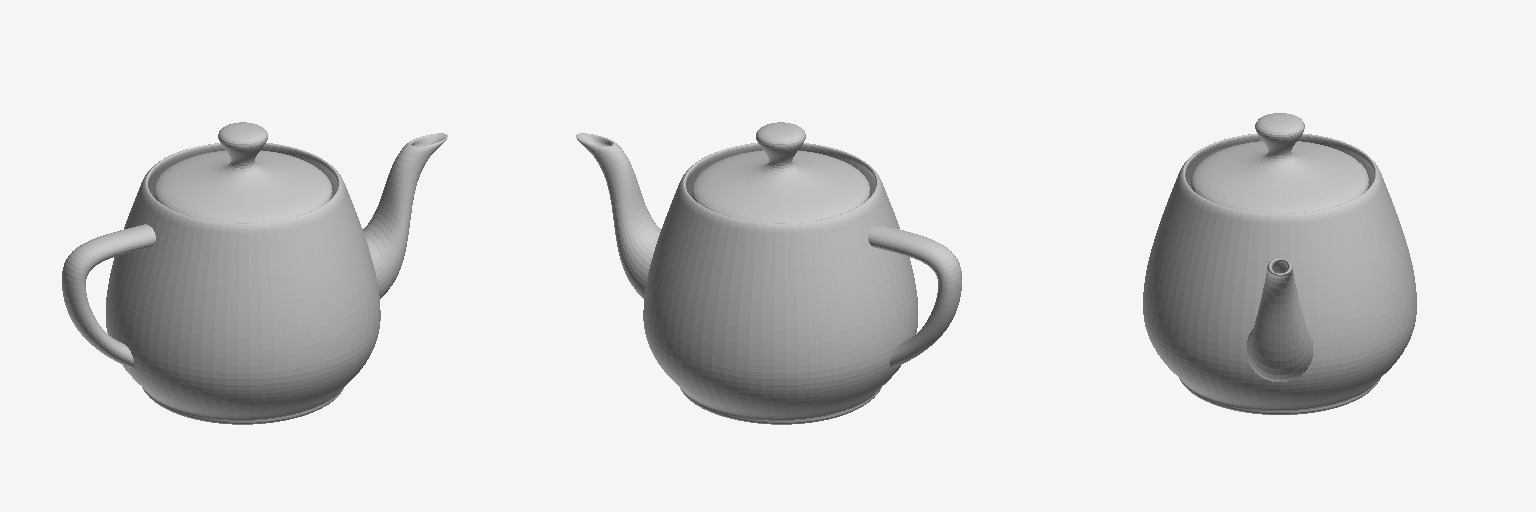
File: teapot.obj
The picture shows the model from 3 angles: view 1: azimuth 30°, elevation 25°; view 2: azimuth 150°, elevation 25°; view 3: azimuth 270°, elevation 25°; orthographic projection.
Visible parts, largest first — view 1: Teapot001; view 2: Teapot001; view 3: Teapot001.
Boxes of the visible parts, x1,y1,x2,y2 form: Teapot001: [62, 122, 447, 424]; Teapot001: [576, 122, 961, 424]; Teapot001: [1143, 113, 1416, 414].
Bounding box in the file's own units: 3.22 × 2.1 × 2.